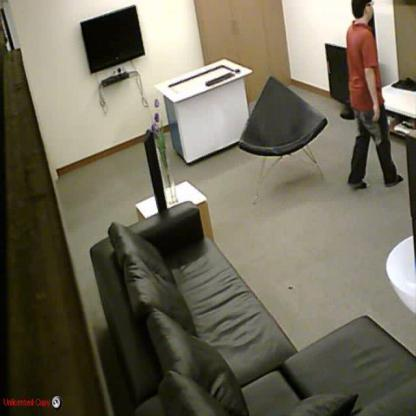Person: (346, 1, 404, 188)
